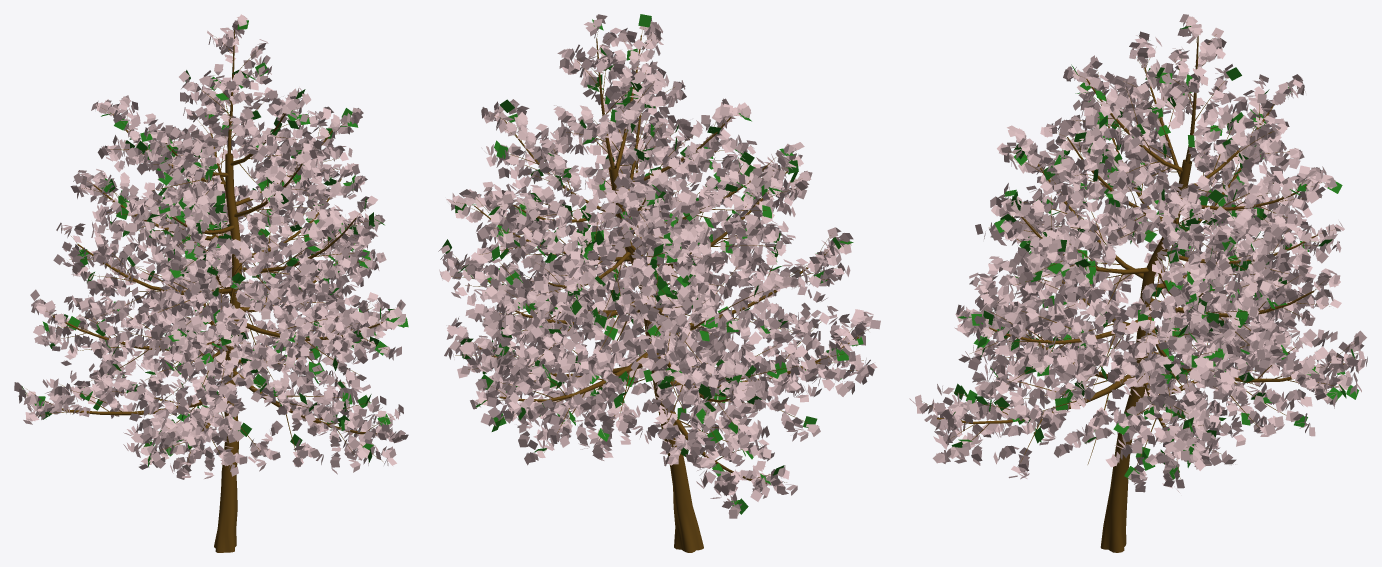
Rendered from Tree2.fbx.
The picture shows the model from 3 angles, left to right: view 1: azimuth 30°, elevation 25°; view 2: azimuth 150°, elevation 25°; view 3: azimuth 270°, elevation 25°; orthographic projection. The views are drawn at different scales.
Visible parts, largest first — view 1: Foliage001; view 2: Foliage001; view 3: Foliage001.
Part boxes in pixels (<box>): Foliage001: <box>14,14,408,552</box>; Foliage001: <box>438,14,880,552</box>; Foliage001: <box>909,14,1367,552</box>.
Size of the model in its own units: 8.78 by 12.25 by 9.11.
